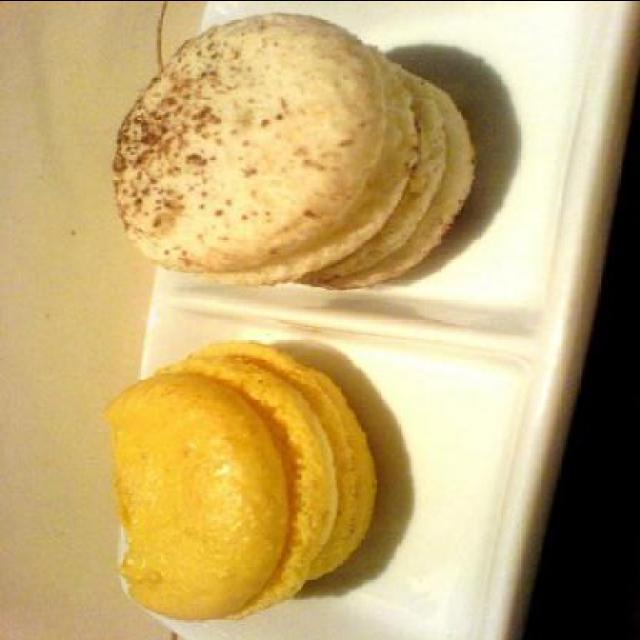Macaron: (98, 16, 510, 618)
